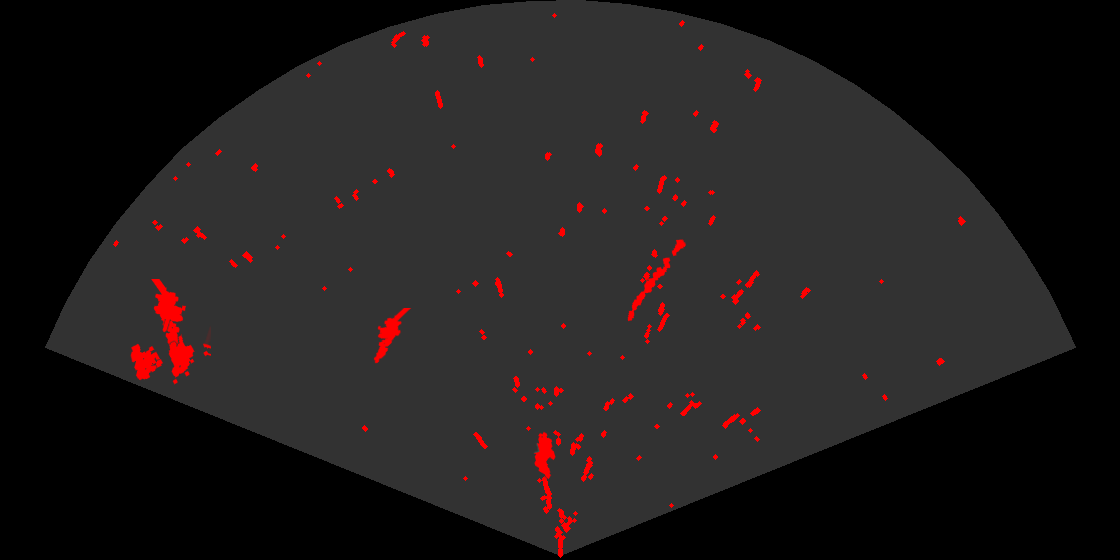AUV: (533, 430, 557, 481)
cage: (129, 319, 211, 386)
chain: (626, 238, 688, 323)
frogman: (150, 279, 188, 358), (372, 308, 413, 365)
